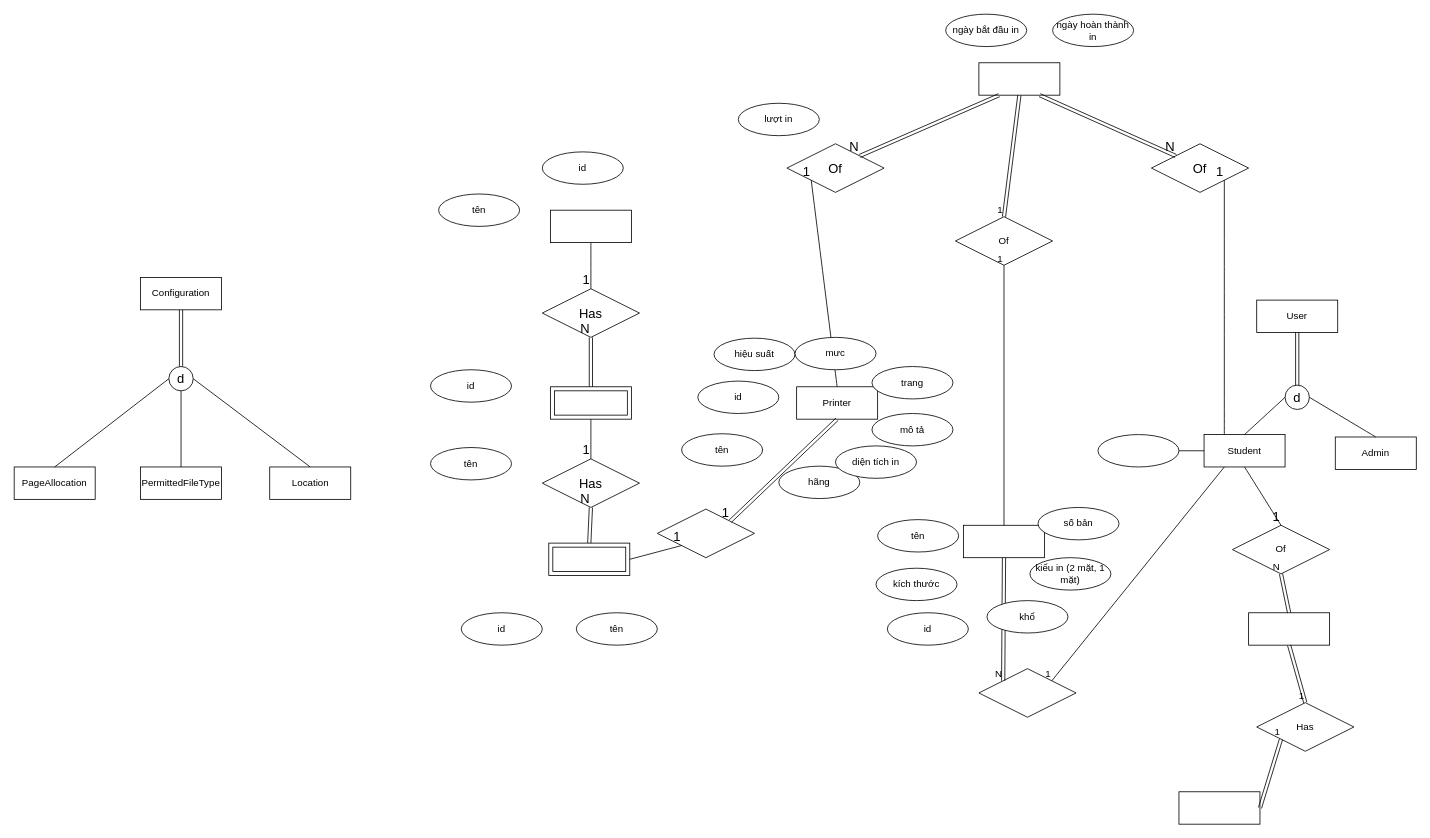
This 1430x838 diagram has some shape labels left out. Here are the shapes that lost their labels. From the top down, the centre of each, then its label:
At (x=1019, y=78): "Printing Log".
At (x=590, y=226): "Campus".
At (x=590, y=402): "Building".
At (x=1138, y=450): "Page Balance".
At (x=706, y=533): "Located at".
At (x=1003, y=541): "File".
At (x=589, y=559): "Room".
At (x=1289, y=628): "Payment Log".
At (x=1027, y=692): "Upload".
At (x=1219, y=807): "PaymentDetail".
